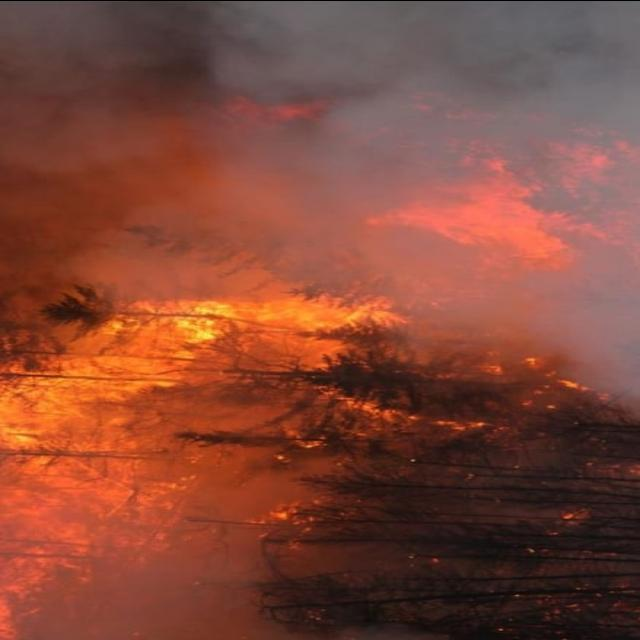Fire: (18, 291, 400, 457), (382, 112, 628, 268)
